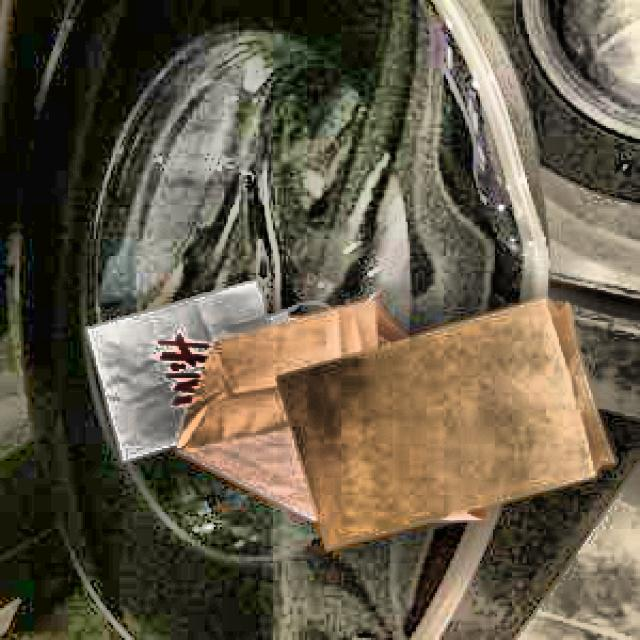Paper-bag: (276, 284, 624, 577), (180, 311, 521, 564), (73, 258, 350, 486)
